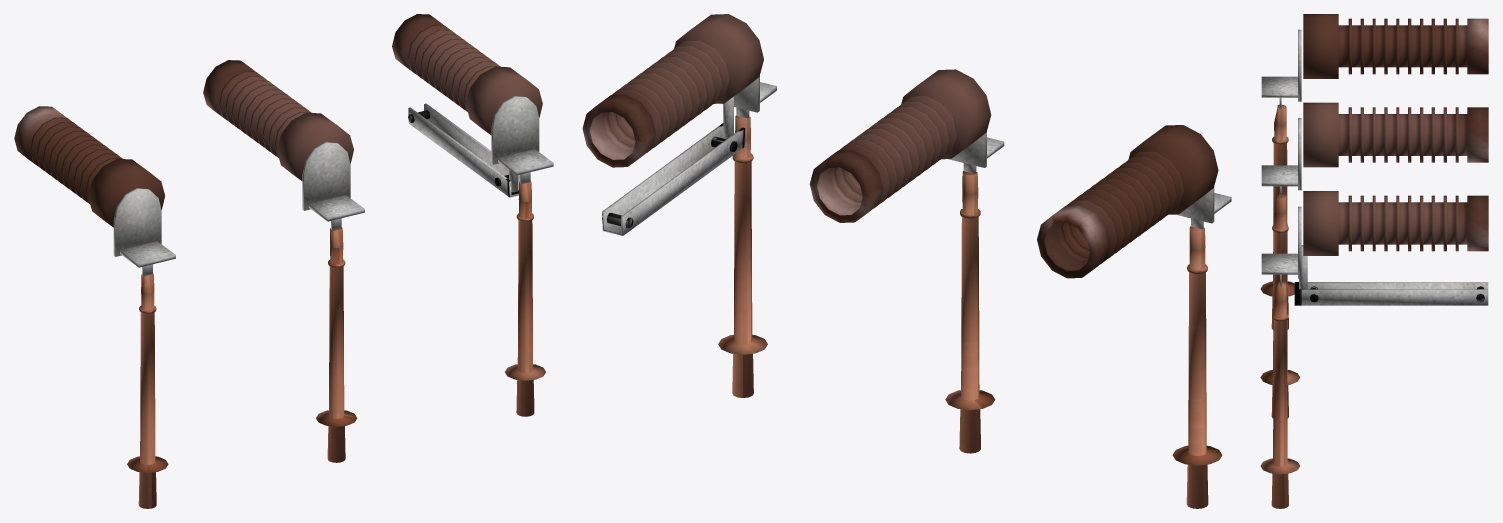
Rendered from faz_revize.fbx.
The picture shows the model from 3 angles, left to right: view 1: azimuth 30°, elevation 25°; view 2: azimuth 150°, elevation 25°; view 3: azimuth 270°, elevation 25°; orthographic projection. The views are drawn at different scales.
Visible parts, largest first — view 1: arka_sag_faz; view 2: arka_sag_faz; view 3: arka_sag_faz.
Part boxes in pixels (box(x1,y1,x2,y2)): arka_sag_faz: box(14, 14, 553, 508); arka_sag_faz: box(582, 14, 1231, 508); arka_sag_faz: box(1260, 14, 1488, 508).
Bounding box in the file's own units: 11.57 × 5.45 × 8.21.
Materials: 1 (1 with a texture image).
